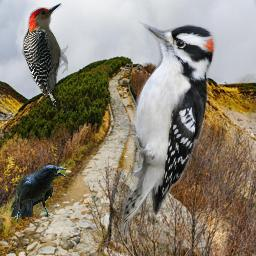Crow: (9, 165, 67, 223)
Woodpecker: (120, 15, 224, 238), (22, 3, 68, 107)
